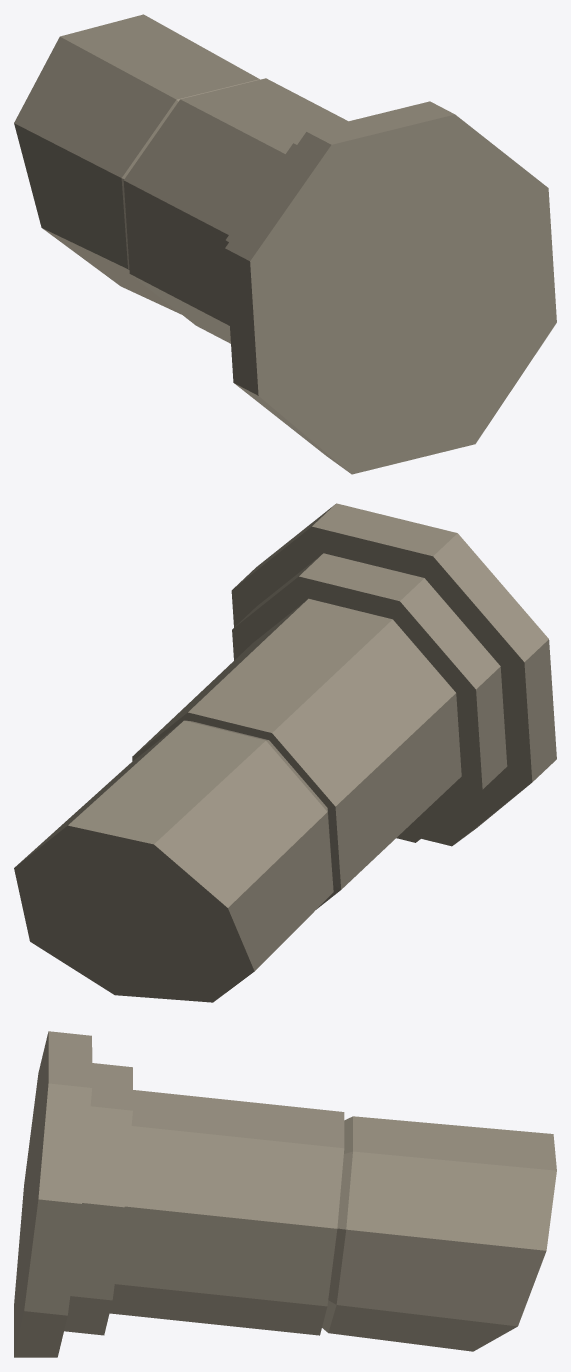
The model's file is Column_Broken.glb.
The picture shows the model from 3 angles, top to bottom: view 1: azimuth 30°, elevation 25°; view 2: azimuth 150°, elevation 25°; view 3: azimuth 270°, elevation 25°; orthographic projection. The views are drawn at different scales.
Visible parts, largest first — view 1: ColumnBroken; view 2: ColumnBroken; view 3: ColumnBroken.
Part boxes in pixels (left/top/right/bottom): ColumnBroken: left=14, top=14, right=556, bottom=474; ColumnBroken: left=14, top=503, right=556, bottom=1002; ColumnBroken: left=14, top=1031, right=556, bottom=1357.
Bounding box in the file's own units: 0.5517 × 0.5611 × 1.
